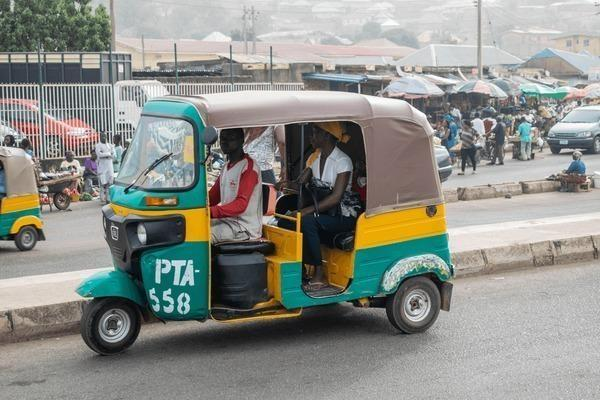keke: (80, 91, 455, 364), (0, 146, 44, 257)
